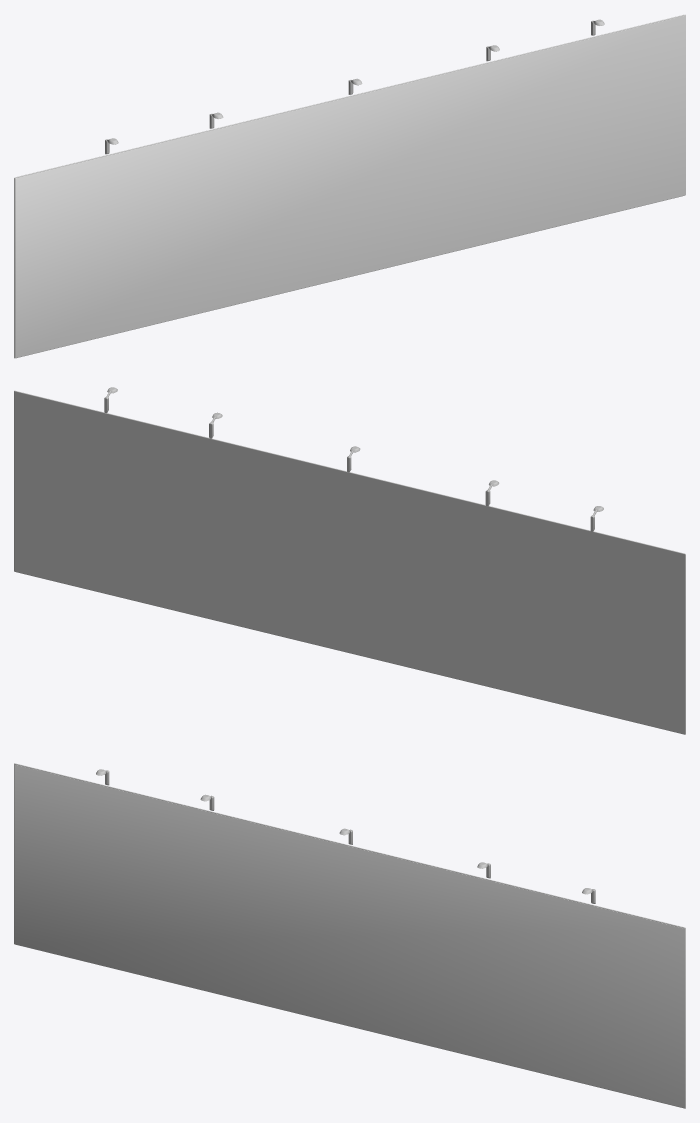
File: Modern_City_Skraper_Billboard.fbx
3 renders of one model, top to bottom at view 1: azimuth 30°, elevation 25°; view 2: azimuth 150°, elevation 25°; view 3: azimuth 330°, elevation 25°, orthographic.
Visible parts, largest first — view 1: Modern_City_Skraper_Billboard_Ad001, Modern_City_Skraper_Billboard_AdBacker, Modern_City_Skraper_Billboard_LightHolder; view 2: Modern_City_Skraper_Billboard_AdBacker, Modern_City_Skraper_Billboard_LightHolder; view 3: Modern_City_Skraper_Billboard_Ad001, Modern_City_Skraper_Billboard_AdBacker, Modern_City_Skraper_Billboard_LightHolder.
Part boxes in pixels (<box>): Modern_City_Skraper_Billboard_Ad001: <box>15,15,685,357</box>; Modern_City_Skraper_Billboard_AdBacker: <box>14,14,685,358</box>; Modern_City_Skraper_Billboard_LightHolder: <box>105,19,604,154</box>; Modern_City_Skraper_Billboard_AdBacker: <box>14,390,685,734</box>; Modern_City_Skraper_Billboard_LightHolder: <box>104,387,603,531</box>; Modern_City_Skraper_Billboard_Ad001: <box>14,764,685,1107</box>; Modern_City_Skraper_Billboard_AdBacker: <box>14,763,685,1108</box>; Modern_City_Skraper_Billboard_LightHolder: <box>96,769,595,903</box>.
Size of the model in its own units: 96.96 by 27.77 by 2.49.
4 materials, 2 textured.
